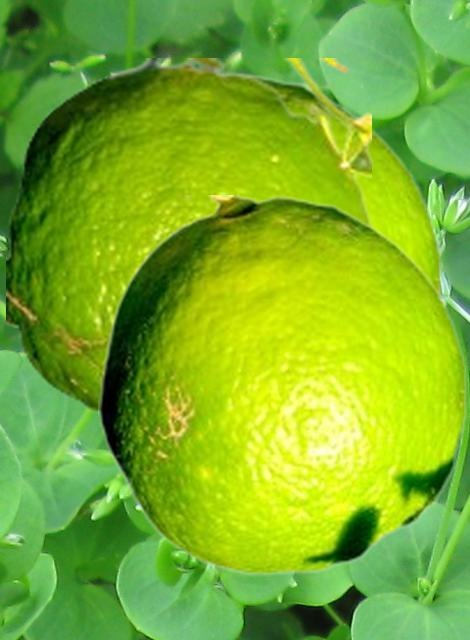dalandan: (98, 195, 467, 575), (6, 58, 370, 418), (251, 73, 442, 293)
